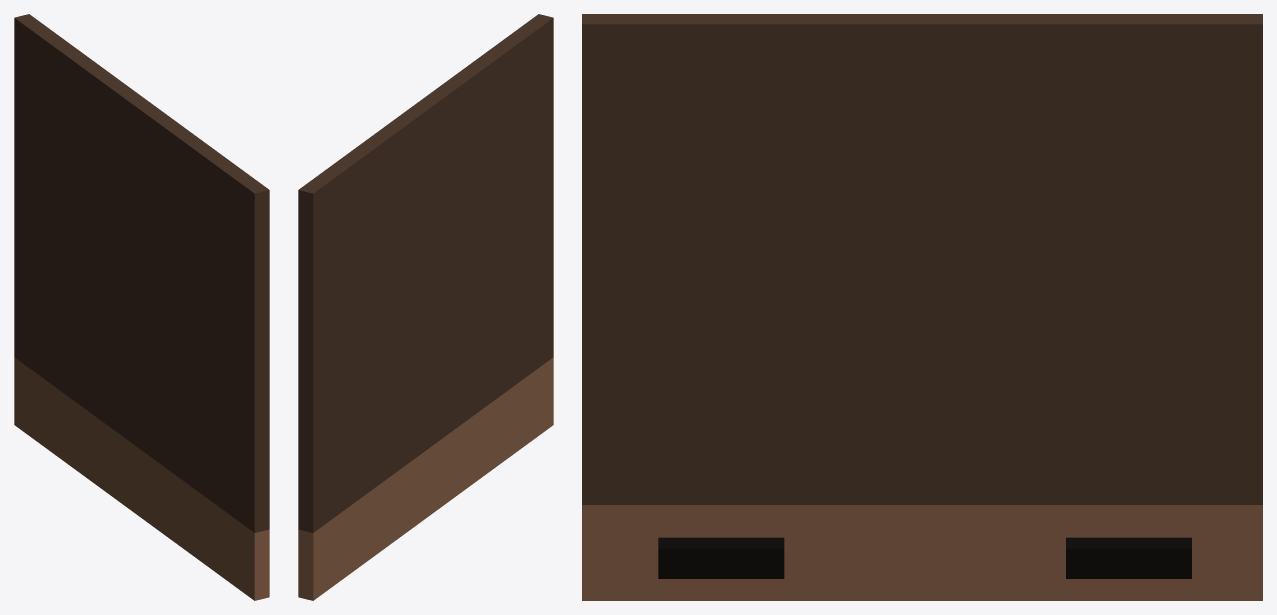
File: Puerta_montaplatos.fbx
3 renders of one model, left to right at view 1: azimuth 30°, elevation 25°; view 2: azimuth 150°, elevation 25°; view 3: azimuth 270°, elevation 25°, orthographic. The views are drawn at different scales.
Parts seen in each view (by area): view 1: Puerta_Montaplatos; view 2: Puerta_Montaplatos; view 3: Puerta_Montaplatos.
Part boxes in pixels (box(x1,y1,x2,y2)): Puerta_Montaplatos: box(14, 14, 269, 600); Puerta_Montaplatos: box(298, 14, 553, 600); Puerta_Montaplatos: box(582, 14, 1262, 600).
Size of the model in its own units: 5.47 by 69.08 by 73.92.
